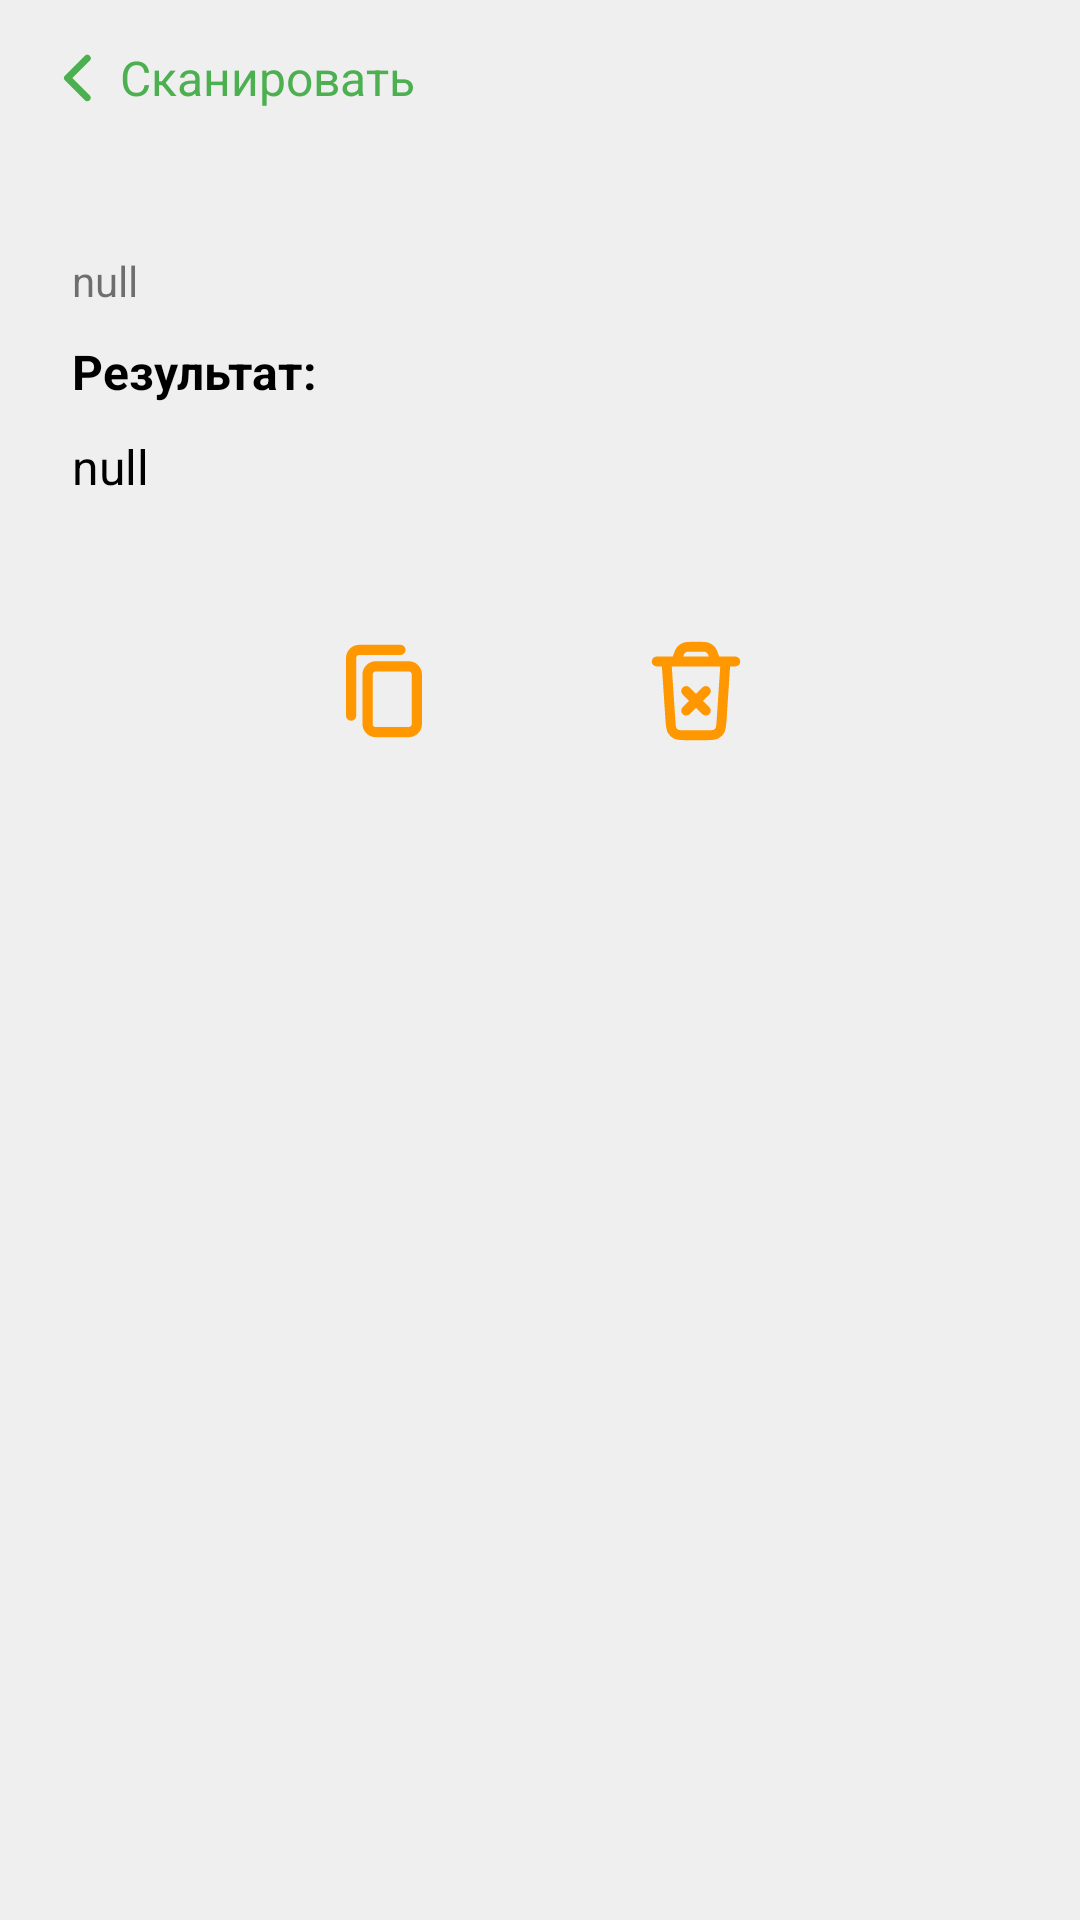

Locate icon controls on the screen. Image size 1080 × 1920, boxes as rect(x1, y1, x2, y2).
delete: rect(651, 641, 741, 741)
